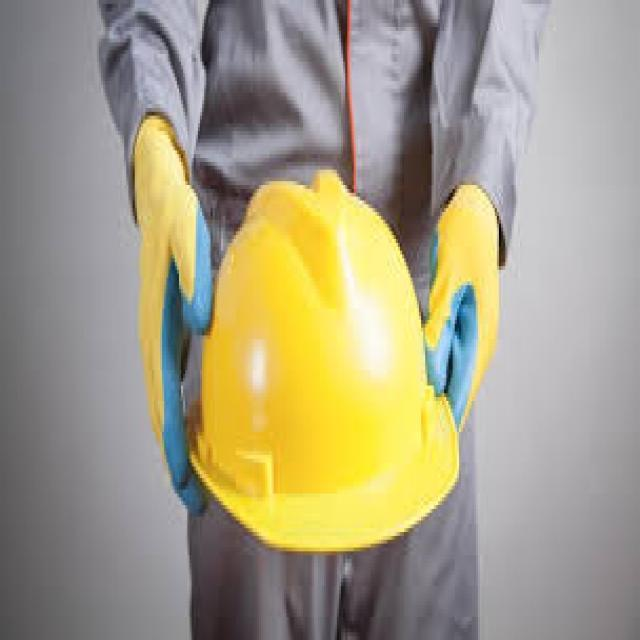safety_helmet: (181, 165, 463, 555)
